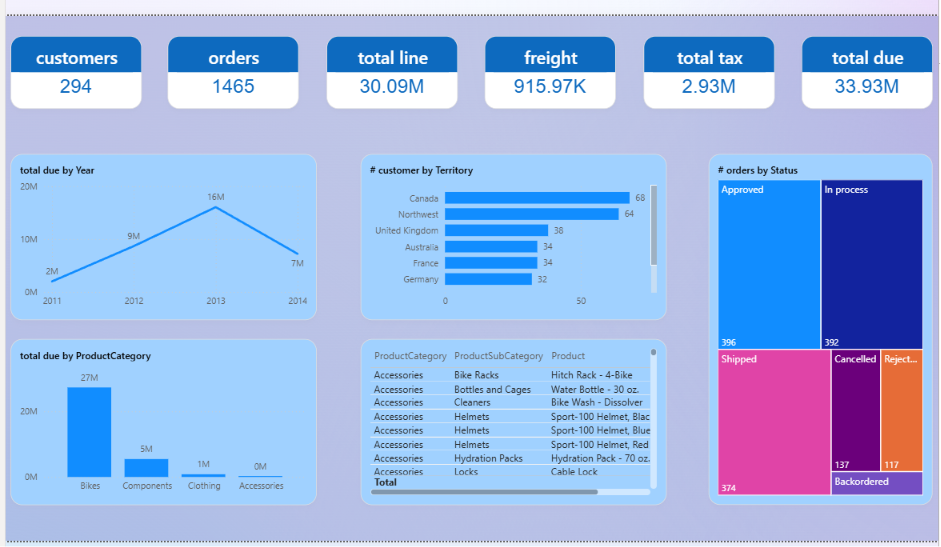

Layout of this report page (visuals, bound fields, positions):
{"tool":"powerbi","page":{"name":"Page 1","canvas":[1280,720],"ordinal":0},"visuals":[{"type":"card","title":"customers","fields":{"Values":["mesure.# customer"]},"box":[6.6,27.7,179.8,100.2],"z":0},{"type":"card","title":"orders","fields":{"Values":["mesure.# orders"]},"box":[223,27.7,180,100],"z":1000},{"type":"card","title":"total due","fields":{"Values":["mesure.total due"]},"box":[1092.4,27.7,180,100],"z":2000},{"type":"card","title":"total tax","fields":{"Values":["mesure.total taxamt"]},"box":[875,27.7,180,100],"z":3000},{"type":"card","title":"freight","fields":{"Values":["mesure.total freight"]},"box":[657.7,27.7,180,100],"z":4000},{"type":"card","title":"total line","fields":{"Values":["mesure.total line total"]},"box":[440.3,27.7,180,100],"z":5000},{"type":"lineChart","fields":{"Category":["dim order date.OrderDate.Variation.Date Hierarchy.Year","dim order date.OrderDate.Variation.Date Hierarchy.Quarter","dim order date.OrderDate.Variation.Date Hierarchy.Month","dim order date.OrderDate.Variation.Date Hierarchy.Day"],"Y":["mesure.total due"]},"box":[6.9,189.4,419.9,227.8],"z":6000},{"type":"barChart","fields":{"Category":["dim teritory.Territory"],"Y":["mesure.# customer"]},"box":[487.1,189.4,419.9,227.8],"z":7000},{"type":"columnChart","fields":{"Category":["dim product.ProductCategory"],"Y":["mesure.total due"]},"box":[6.9,443.2,419.9,227.8],"z":8000},{"type":"tableEx","fields":{"Values":["dim product.ProductCategory Hierarchy.ProductCategory","dim product.ProductCategory Hierarchy.ProductSubCategory","dim product.ProductCategory Hierarchy.Product","mesure.# orders"]},"box":[487.1,443.2,419.9,227.8],"z":9000},{"type":"treemap","fields":{"Group":["dim status.Status"],"Values":["mesure.# orders"]},"box":[964.7,189.4,307.4,481.6],"z":10000}]}

Visuals, with their boxes on the page's 1280x720 design canvas (x1, y1, x2, y2). These are canvas units, not pixel positions in the 941x547 screenshot, which may show the page scaled, cropped or inside an application window:
"customers" card: detection(7, 28, 186, 128)
"orders" card: detection(223, 28, 403, 128)
"total due" card: detection(1092, 28, 1272, 128)
"total tax" card: detection(875, 28, 1055, 128)
"freight" card: detection(658, 28, 838, 128)
"total line" card: detection(440, 28, 620, 128)
lineChart - dim order date.OrderDate.Variation.Date Hierarchy.Year x dim order date.OrderDate.Variation.Date Hierarchy.Quarter: detection(7, 189, 427, 417)
barChart - dim teritory.Territory x mesure.# customer: detection(487, 189, 907, 417)
columnChart - dim product.ProductCategory x mesure.total due: detection(7, 443, 427, 671)
tableEx - dim product.ProductCategory Hierarchy.ProductCategory x dim product.ProductCategory Hierarchy.ProductSubCategory: detection(487, 443, 907, 671)
treemap - dim status.Status x mesure.# orders: detection(965, 189, 1272, 671)
